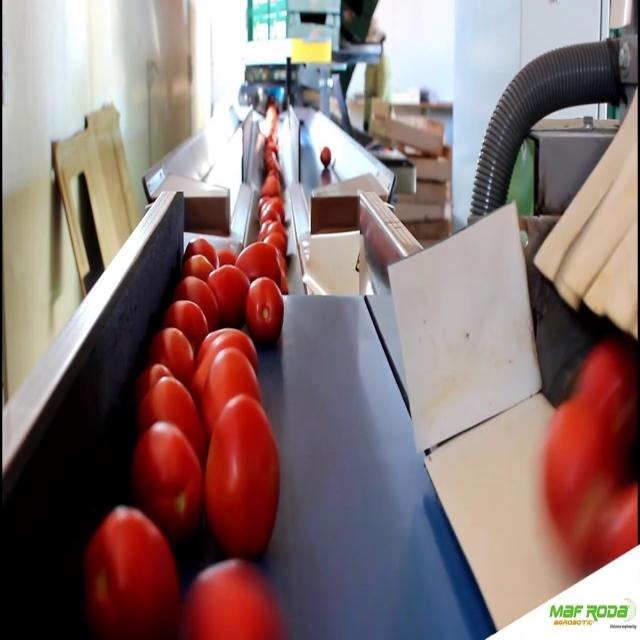Tomato: (535, 406, 625, 548), (81, 512, 183, 628), (205, 400, 283, 548), (187, 558, 289, 640), (126, 423, 202, 530), (574, 342, 634, 427), (204, 355, 261, 416), (148, 371, 201, 432), (606, 486, 640, 564), (200, 326, 254, 371), (246, 279, 286, 338), (234, 240, 281, 284), (208, 269, 250, 317), (156, 327, 191, 376), (164, 296, 206, 336), (177, 273, 214, 307), (187, 232, 220, 264), (320, 139, 332, 174), (265, 234, 286, 250), (265, 219, 286, 233), (261, 185, 278, 198)
